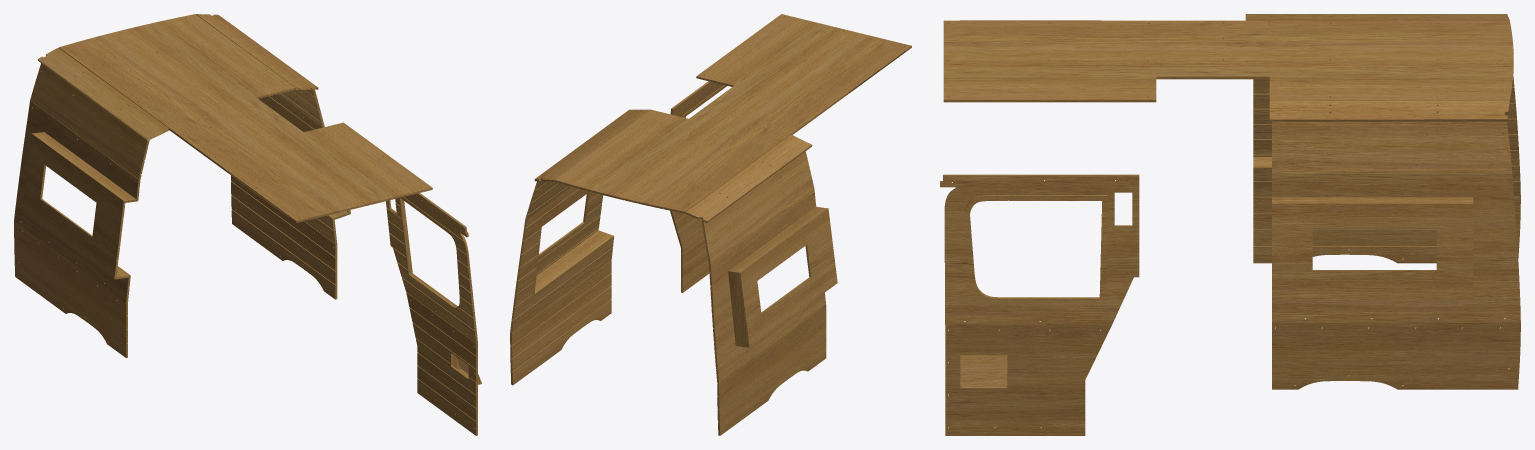
Rendered from wall-and-ceiling-seven.glb.
3 views of the same model, side by side, from view 1: azimuth 30°, elevation 25°; view 2: azimuth 150°, elevation 25°; view 3: azimuth 270°, elevation 25° (orthographic). The views are drawn at different scales.
Visible parts, largest first — view 1: object 1, EFI359; view 2: object 1, EFI359; view 3: object 1, EFI359.
Part boxes in pixels (left/top/right/bottom): object 1: left=14, top=63, right=481, bottom=435; EFI359: left=37, top=14, right=432, bottom=222; object 1: left=510, top=81, right=837, bottom=435; EFI359: left=534, top=14, right=911, bottom=222; object 1: left=940, top=23, right=1520, bottom=435; EFI359: left=943, top=14, right=1513, bottom=121.
Bounding box in the file's own units: 1.9 × 1.93 × 3.28.
1 material, 1 textured.
